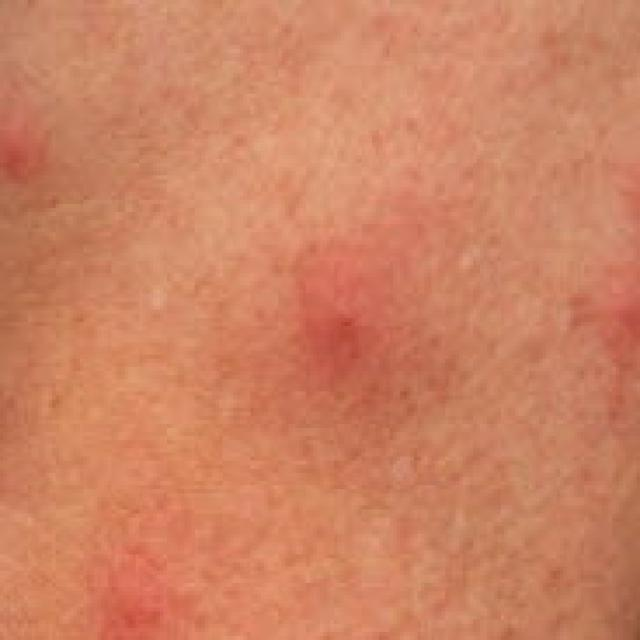sinek: (259, 214, 407, 422)
